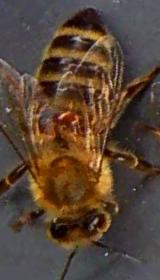varroa_mite: (45, 110, 81, 129)
